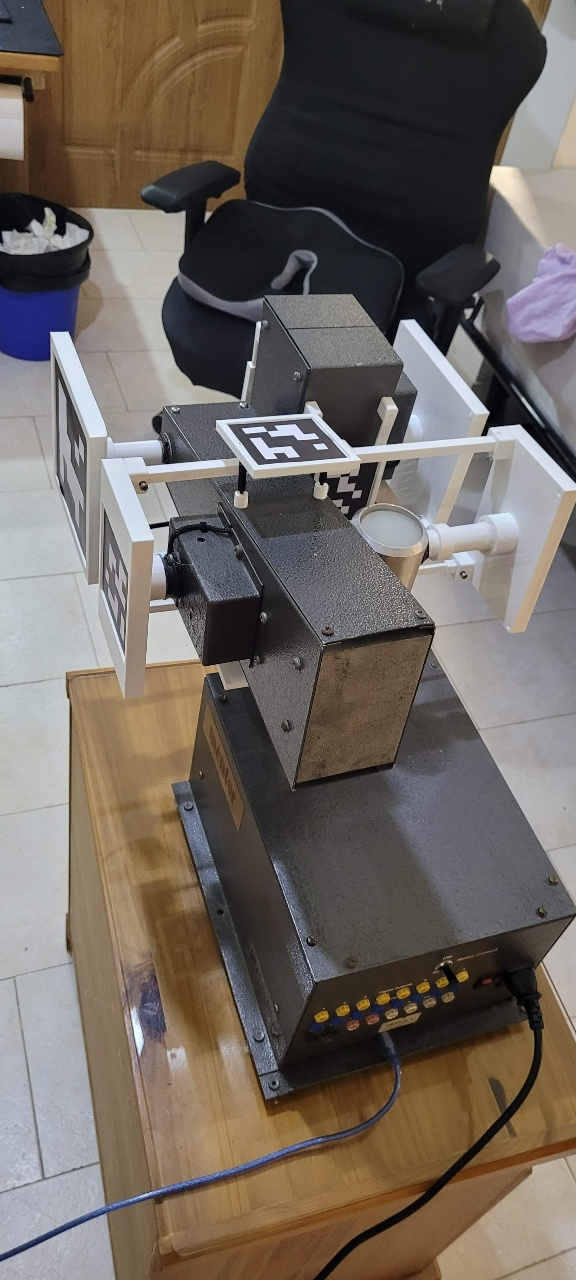Robot: (69, 205, 537, 1148)
